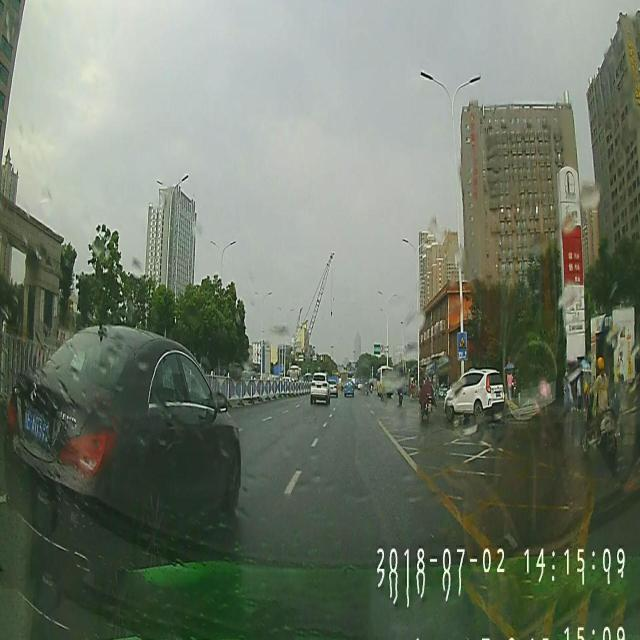car: (3, 323, 243, 562), (443, 367, 504, 424), (310, 372, 330, 404), (328, 379, 338, 397), (344, 379, 354, 397)
